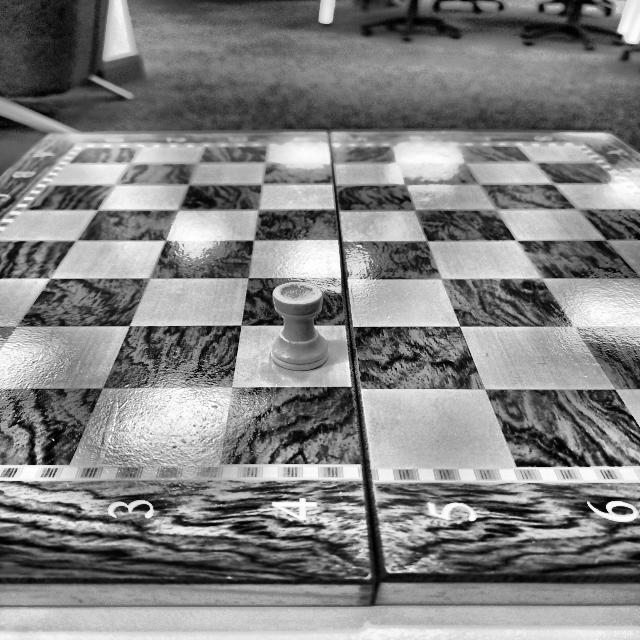white-rook: (272, 282, 331, 371)
